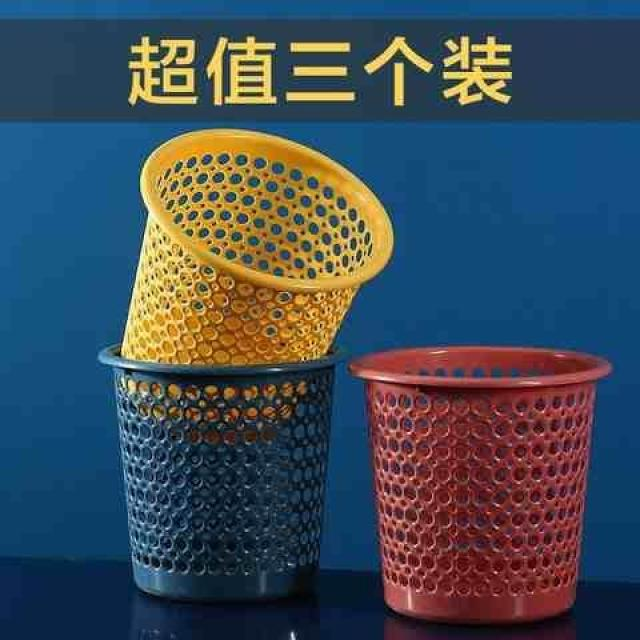dustbin: (117, 119, 399, 413), (346, 340, 615, 628), (93, 338, 347, 610)
